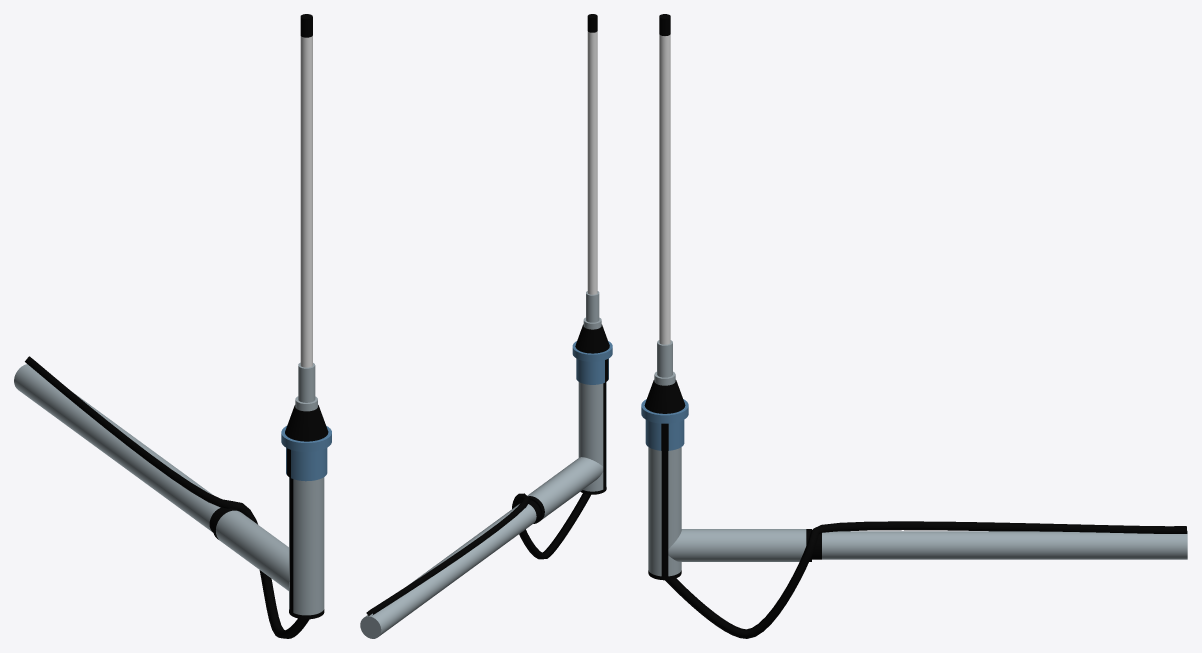
File: Monopolo Sin Texto.glb
3 renders of one model, left to right at view 1: azimuth 30°, elevation 25°; view 2: azimuth 150°, elevation 25°; view 3: azimuth 270°, elevation 25°, orthographic. The views are drawn at different scales.
Parts seen in each view (by area): view 1: Cilindro, Cilindro.001, Catenary; view 2: Cilindro, Cilindro.001, Catenary; view 3: Cilindro.001, Cilindro, Catenary.
Part boxes in pixels (x1=…): Cilindro: x1=281, y1=14, x2=331, y2=619; Cilindro.001: x1=14, y1=364, x2=289, y2=590; Catenary: x1=25, y1=356, x2=309, y2=638; Cilindro: x1=572, y1=14, x2=612, y2=494; Cilindro.001: x1=360, y1=457, x2=603, y2=638; Catenary: x1=366, y1=493, x2=590, y2=615; Cilindro.001: x1=668, y1=529, x2=1187, y2=561; Cilindro: x1=641, y1=14, x2=688, y2=580; Catenary: x1=665, y1=521, x2=1187, y2=638.
Size of the model in its own units: 4.4 by 55.75 by 44.98.
